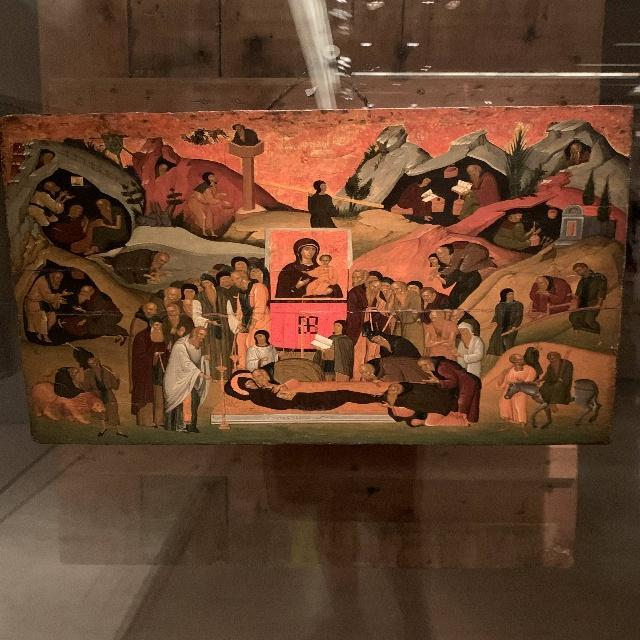book: (310, 334, 332, 350), (449, 180, 472, 193), (420, 188, 439, 202)
christ_kid: (302, 253, 342, 299)
mary: (268, 230, 348, 298)
